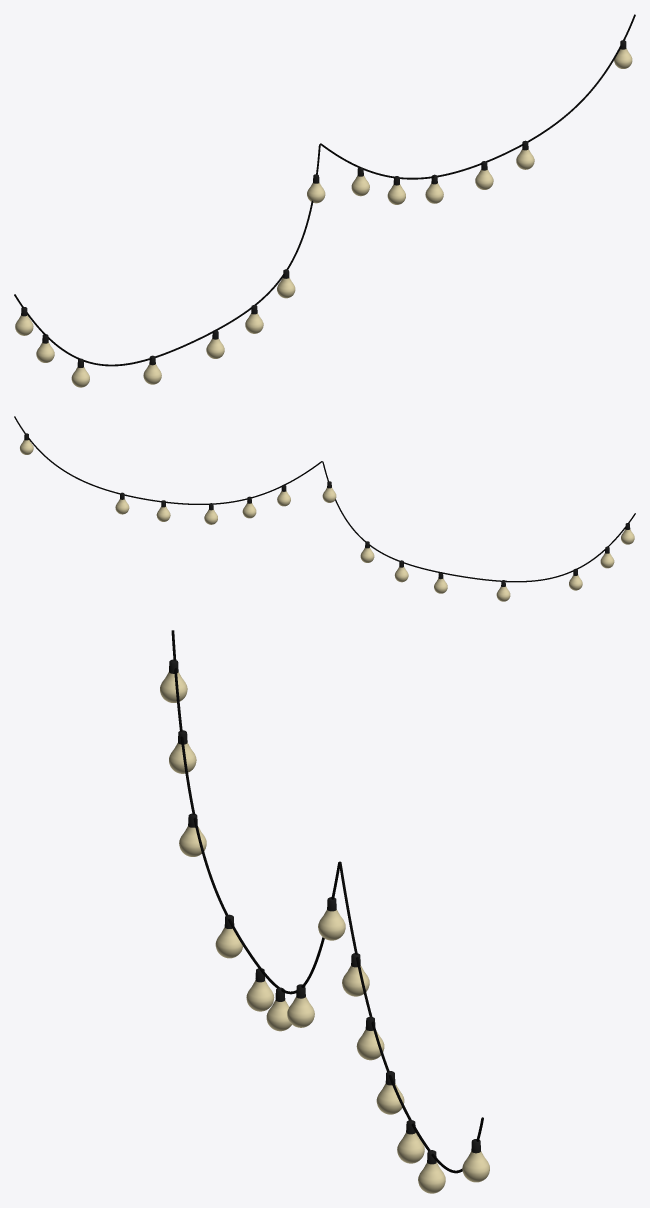
File: FairyLights.fbx
3 renders of one model, top to bottom at view 1: azimuth 30°, elevation 25°; view 2: azimuth 150°, elevation 25°; view 3: azimuth 270°, elevation 25°, orthographic. The views are drawn at different scales.
Parts seen in each view (by area): view 1: NurbsPath; view 2: NurbsPath; view 3: NurbsPath.
Part boxes in pixels (left/top/right/bottom): NurbsPath: left=14, top=14, right=635, bottom=387; NurbsPath: left=14, top=416, right=635, bottom=601; NurbsPath: left=160, top=630, right=489, bottom=1193.
Size of the model in its own units: 907 by 202 by 238.
